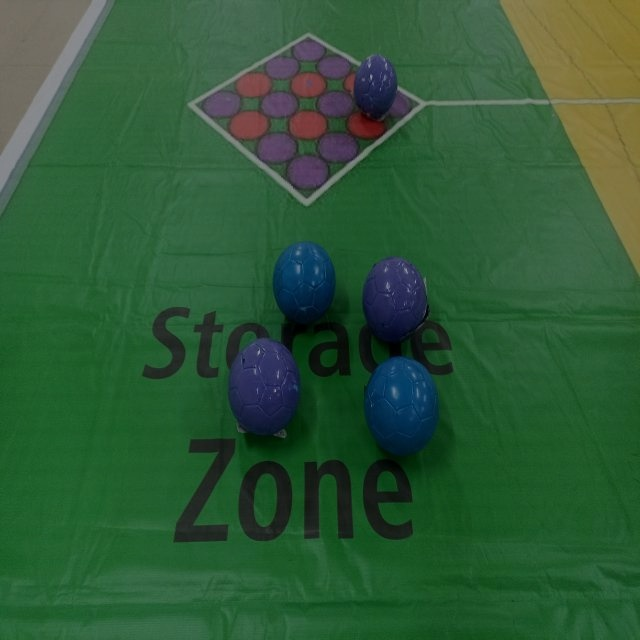blue_ball: (359, 350, 439, 460), (271, 232, 340, 331)
purple_ball: (228, 336, 306, 447), (355, 241, 432, 349), (349, 49, 398, 122)
